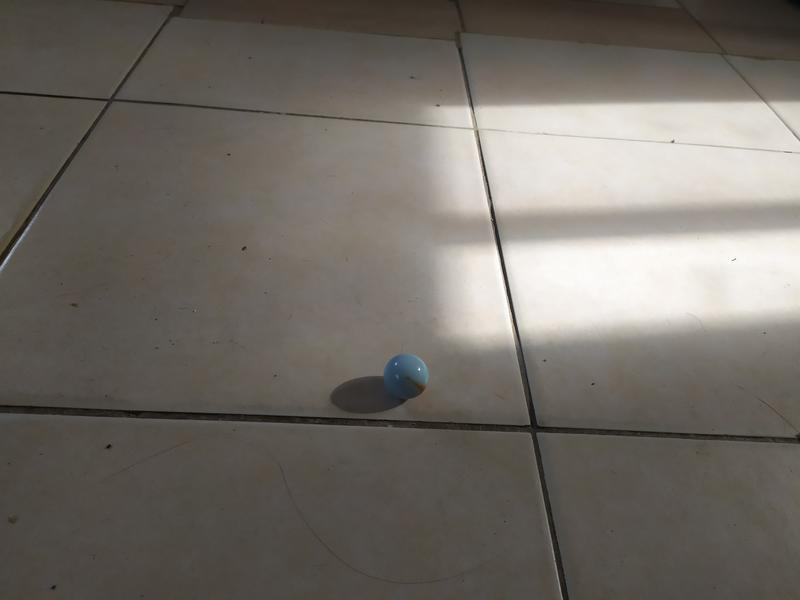Warning: (381, 350, 432, 401)
